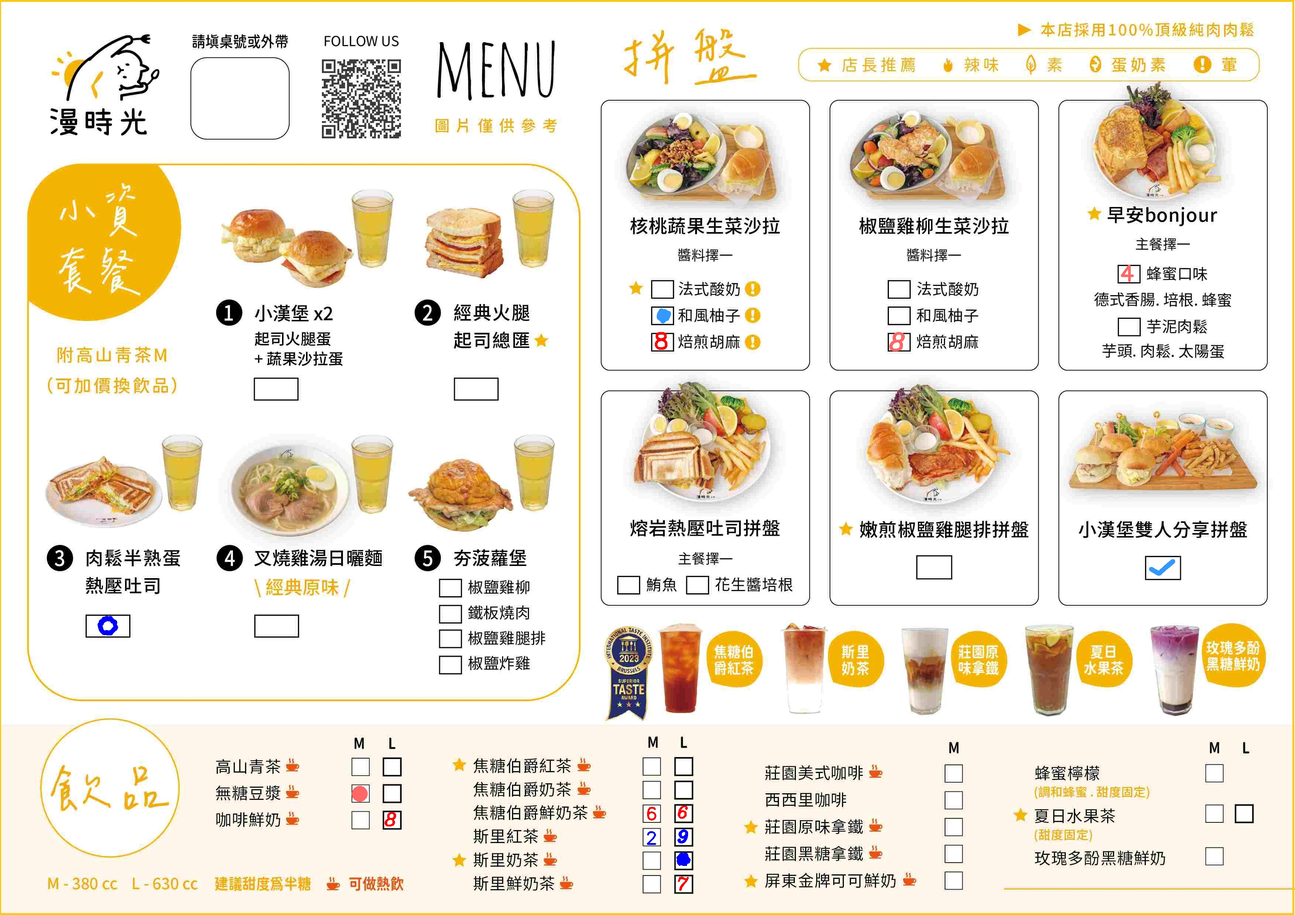marked_circle: (652, 306, 674, 324), (675, 851, 692, 869), (351, 785, 368, 802)
marked_hollow: (86, 616, 130, 635)
marked_number_2: (643, 829, 660, 846)
marked_number_4: (1117, 264, 1139, 282)
marked_number_6: (643, 804, 660, 822), (675, 804, 692, 821)
marked_number_7: (675, 874, 692, 891)
marked_number_8: (651, 331, 673, 349), (888, 332, 910, 350), (382, 811, 399, 828)
marked_number_9: (675, 828, 692, 845)
marked_tick: (1145, 557, 1180, 578)
